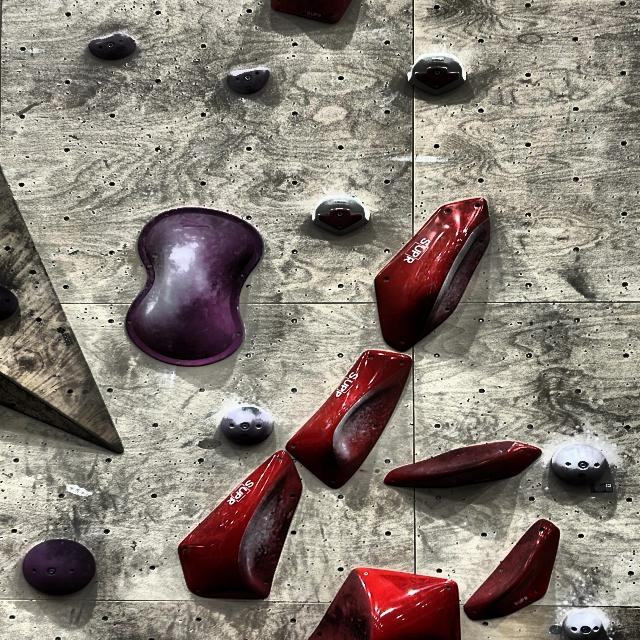Downclimb: (410, 54, 466, 95), (313, 196, 367, 234)
Hold: (465, 520, 559, 619), (385, 441, 541, 489), (22, 539, 95, 595), (551, 443, 607, 485), (221, 405, 273, 445), (271, 0, 352, 24), (88, 32, 136, 61), (562, 610, 603, 640), (227, 67, 270, 95), (0, 285, 17, 322)
Macro: (126, 208, 263, 366), (179, 451, 302, 598), (375, 197, 490, 350), (287, 350, 412, 488), (308, 568, 461, 640)
start_tag: (549, 625, 563, 634), (594, 484, 605, 492)
